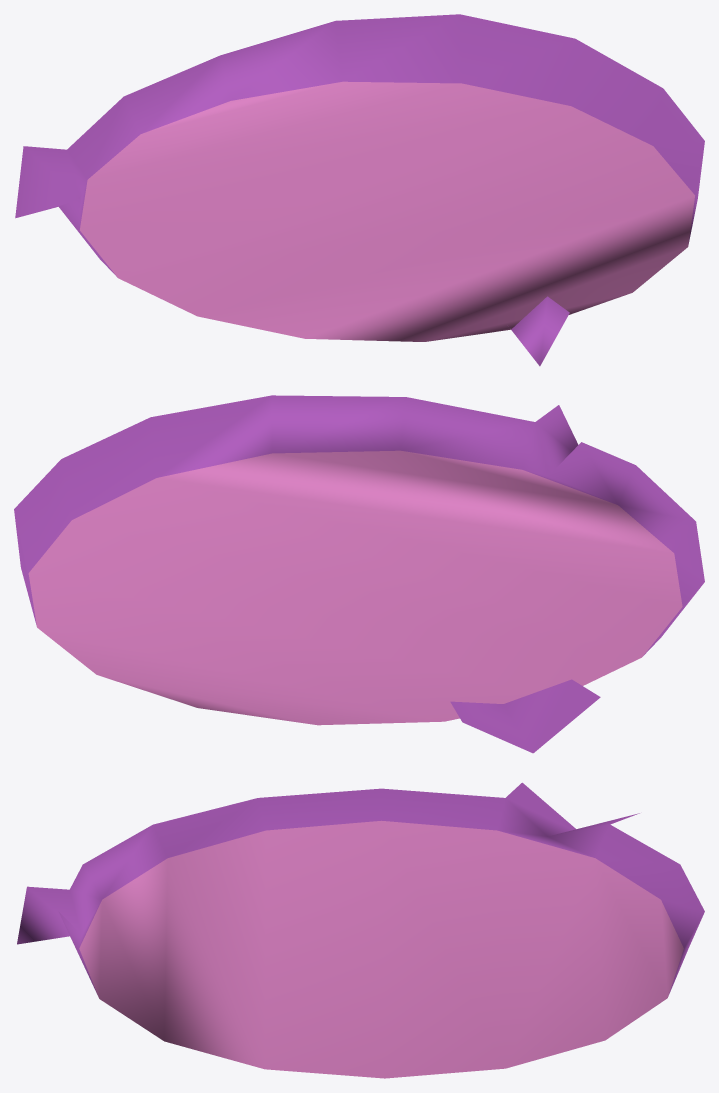
File: RaveCaveGeyserInnerA.glb
3 views of the same model, one above another, from view 1: azimuth 30°, elevation 25°; view 2: azimuth 150°, elevation 25°; view 3: azimuth 270°, elevation 25° (orthographic). The views are drawn at different scales.
Visible parts, largest first — view 1: RaveCaveGeyserInnerA; view 2: RaveCaveGeyserInnerA; view 3: RaveCaveGeyserInnerA.
Boxes of the visible parts, bbox=[...] form: RaveCaveGeyserInnerA: bbox=[15, 14, 704, 366]; RaveCaveGeyserInnerA: bbox=[14, 395, 704, 753]; RaveCaveGeyserInnerA: bbox=[17, 782, 704, 1078].
Size of the model in its own units: 4.56 by 0.5798 by 4.79.
